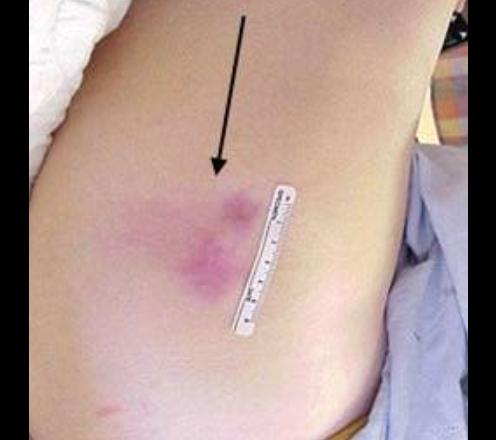Stage1: (95, 140, 255, 322)
